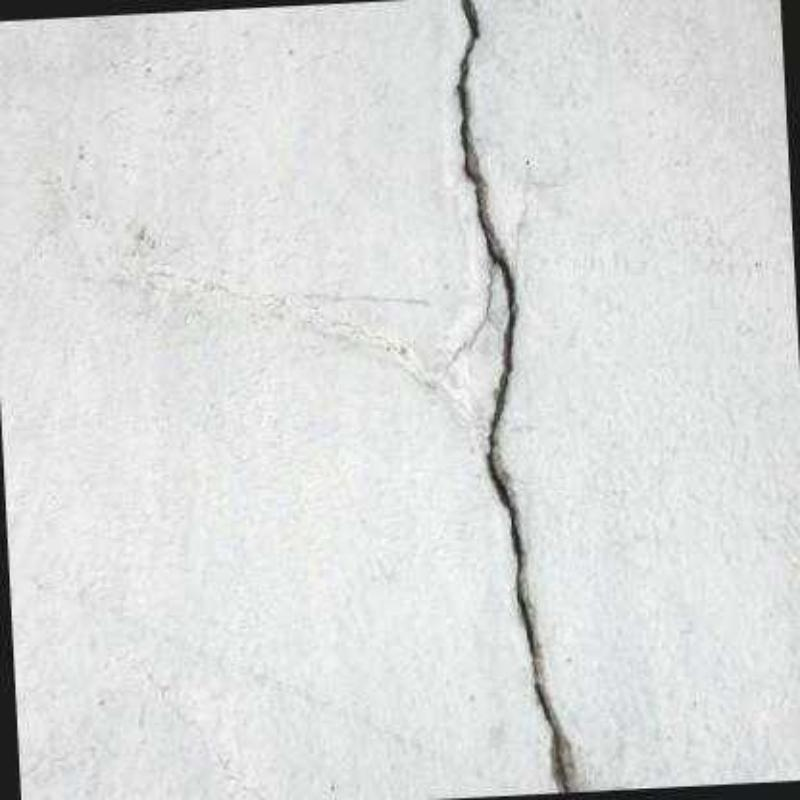pothole: (453, 0, 572, 792), (440, 263, 502, 381)
